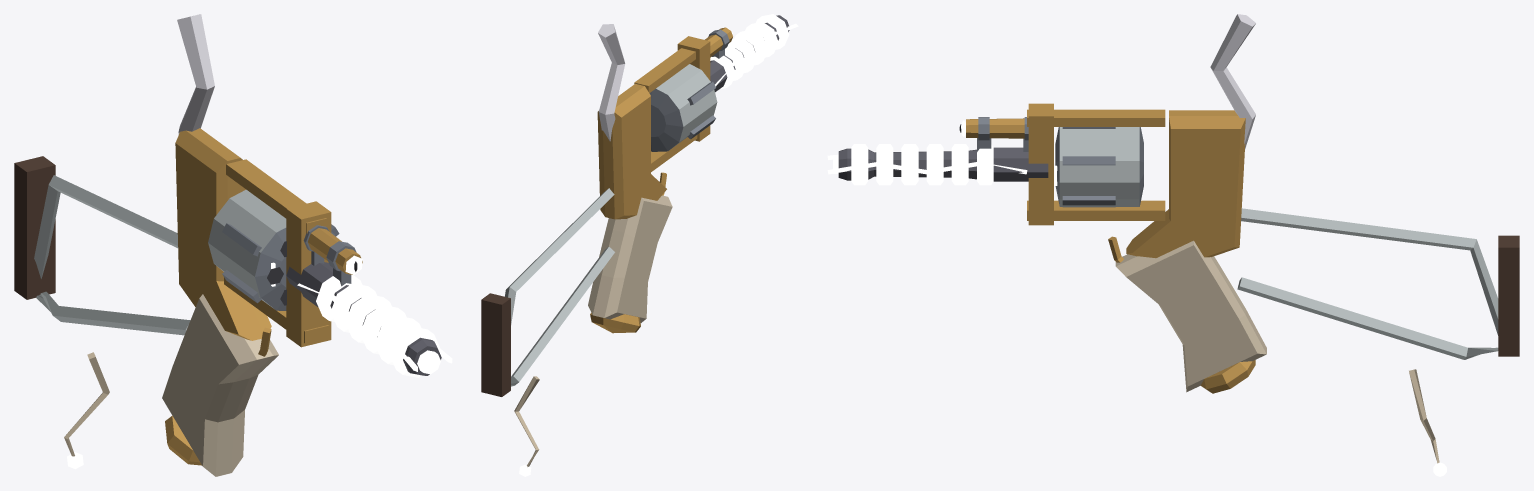
The model's file is gun-six-beat.glb.
3 renders of one model, left to right at view 1: azimuth 30°, elevation 25°; view 2: azimuth 150°, elevation 25°; view 3: azimuth 270°, elevation 25°, orthographic. The views are drawn at different scales.
Visible parts, largest first — view 1: gun-six-beat, sway_sinew; view 2: gun-six-beat, sway_sinew; view 3: gun-six-beat, sway_sinew.
Part boxes in pixels (<box>): gun-six-beat: <box>14,14,441,476</box>; sway_sinew: <box>64,352,109,469</box>; gun-six-beat: <box>481,14,789,396</box>; sway_sinew: <box>514,376,539,476</box>; gun-six-beat: <box>833,14,1519,393</box>; sway_sinew: <box>1409,369,1446,476</box>.
Size of the model in its own units: 0.1203 by 0.7188 by 0.9769.
